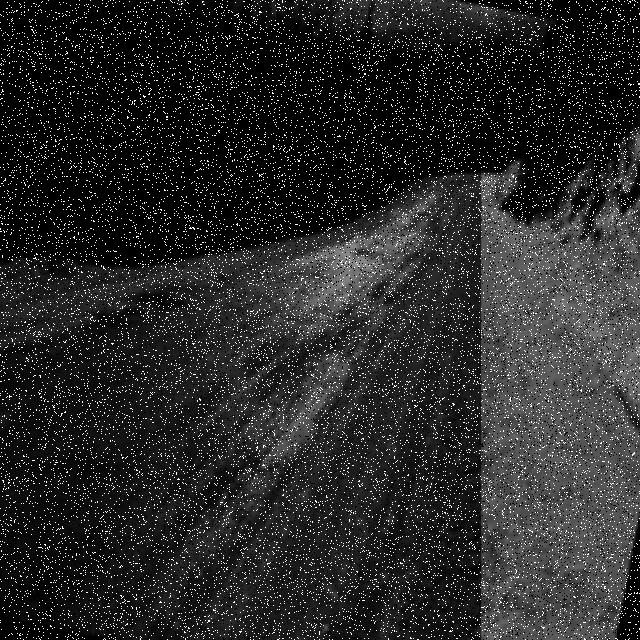ice-road: (0, 167, 481, 640)
